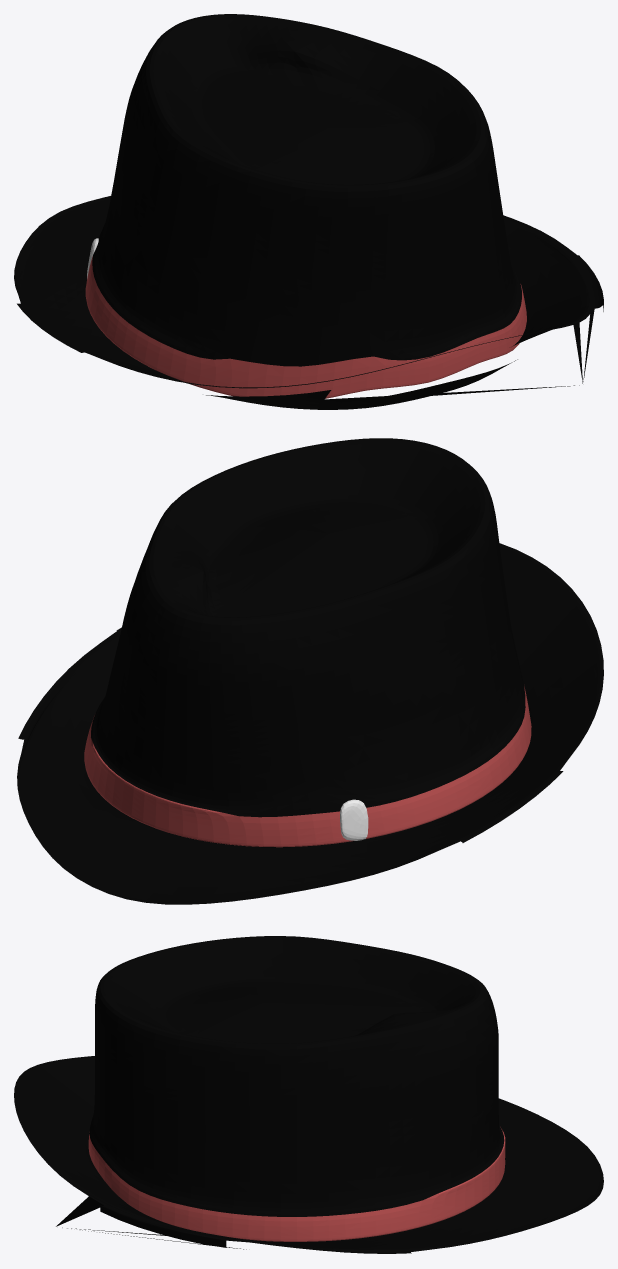
Rendered from blackhat.fbx.
3 renders of one model, top to bottom at view 1: azimuth 30°, elevation 25°; view 2: azimuth 150°, elevation 25°; view 3: azimuth 270°, elevation 25°, orthographic. The views are drawn at different scales.
Visible parts, largest first — view 1: polySurface1; view 2: polySurface1; view 3: polySurface1.
Boxes of the visible parts, x1=… form: polySurface1: x1=14, y1=14, x2=603, y2=409; polySurface1: x1=17, y1=438, x2=603, y2=904; polySurface1: x1=14, y1=936, x2=603, y2=1253.
Size of the model in its own units: 0.0895 by 0.0425 by 0.1141.
